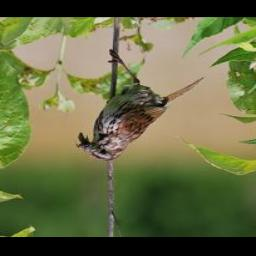Sparrow: (78, 50, 206, 162)
